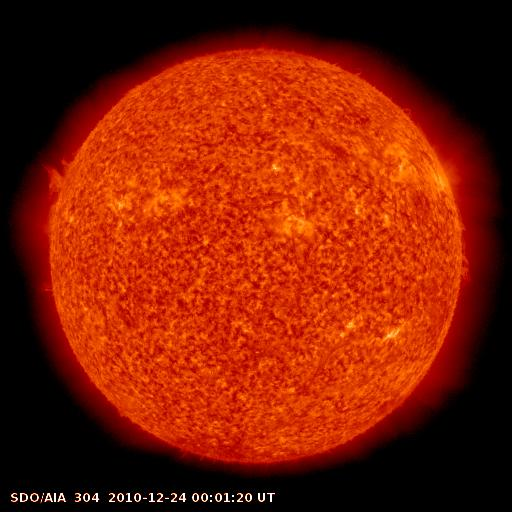prominence: (35, 143, 80, 207), (451, 205, 481, 292)
